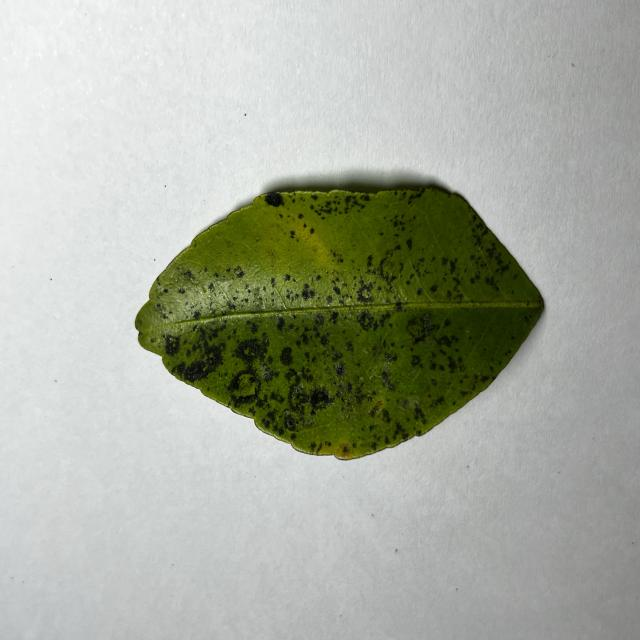sooty_mold: (135, 189, 543, 459)
